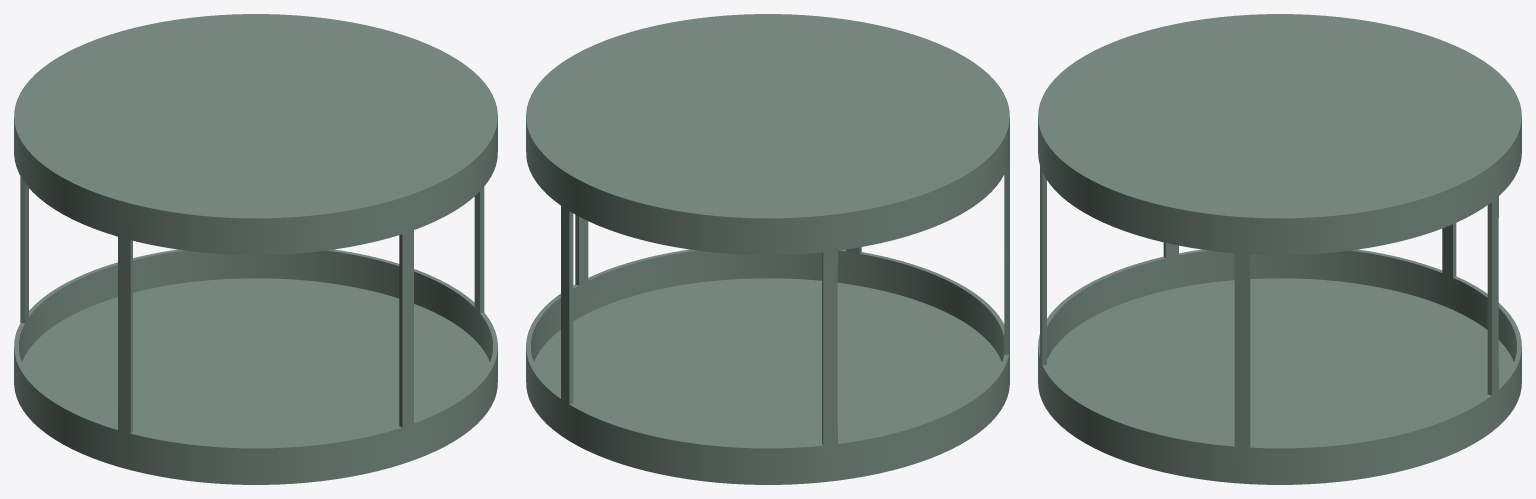
File: telescopeViewport_v03.gltf
3 views of the same model, side by side, from view 1: azimuth 30°, elevation 25°; view 2: azimuth 150°, elevation 25°; view 3: azimuth 270°, elevation 25° (orthographic).
Parts seen in each view (by area): view 1: telescopeViewport_v03; view 2: telescopeViewport_v03; view 3: telescopeViewport_v03.
Part boxes in pixels (bbox=[...]): telescopeViewport_v03: bbox=[14, 14, 497, 484]; telescopeViewport_v03: bbox=[526, 14, 1009, 484]; telescopeViewport_v03: bbox=[1038, 14, 1521, 484].
Bounding box in the file's own units: 10.2 × 6.2 × 10.2.
